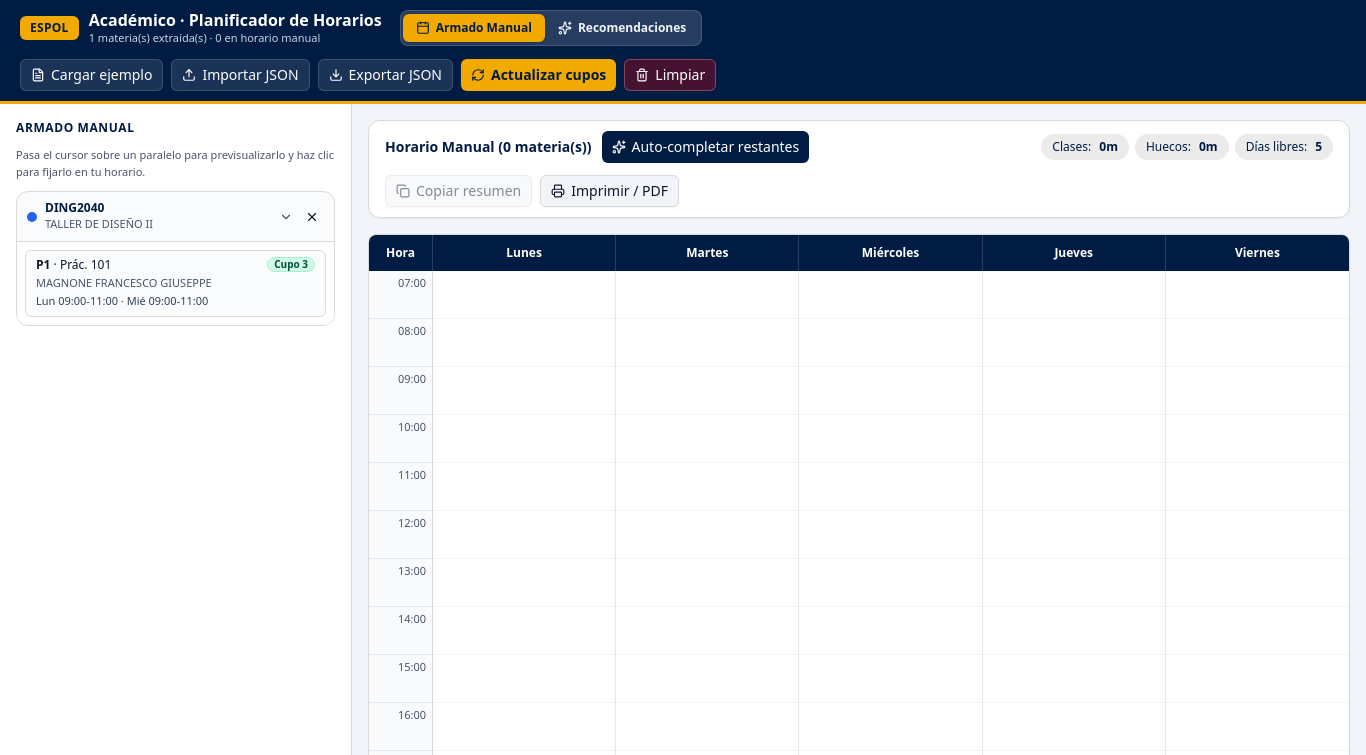
it: Planner App integration › refreshes seats and handles clearing all courses
The image size is (1366, 755).
Expected: the text "DING2040" is shown, [45,200,104,216]
Note: Refresh seats (hits authError path)
Click the button "Actualizar cupos": (539, 74) [461,58,616,90]
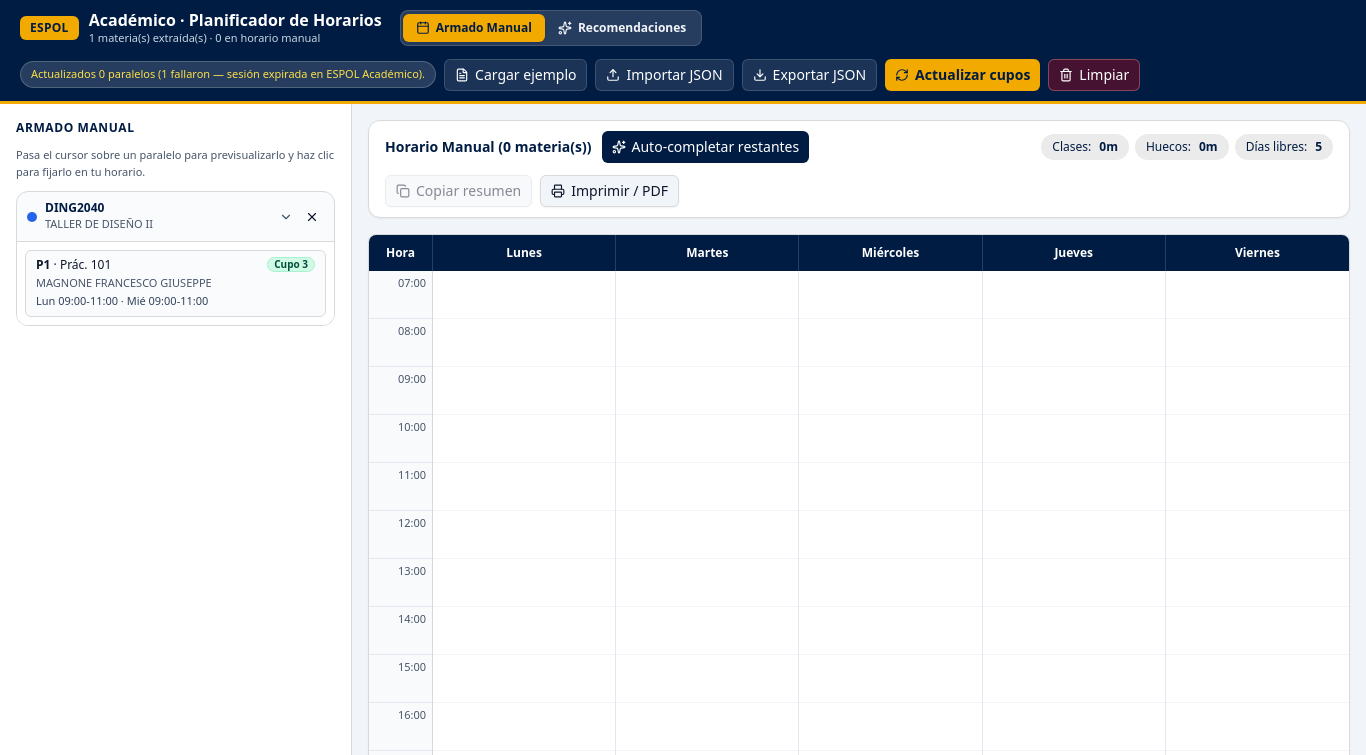
Now the text "sesión expirada en ESPOL Académico" is shown, box [31,66,425,81]
Note: Clear all courses (2-click confirm)
Click the button "Limpiar": (1094, 74) [1048,58,1140,90]
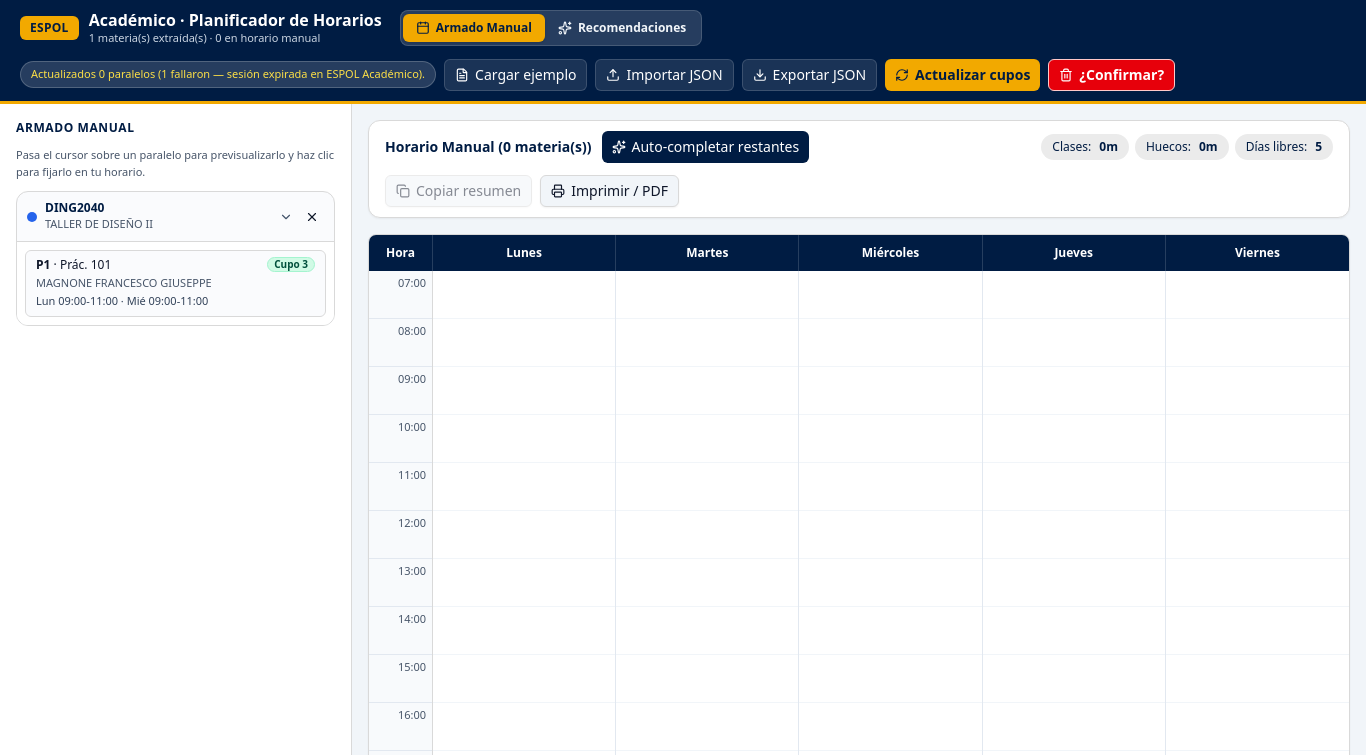
Click the button "¿Confirmar?": (1112, 74) [1048,58,1175,90]
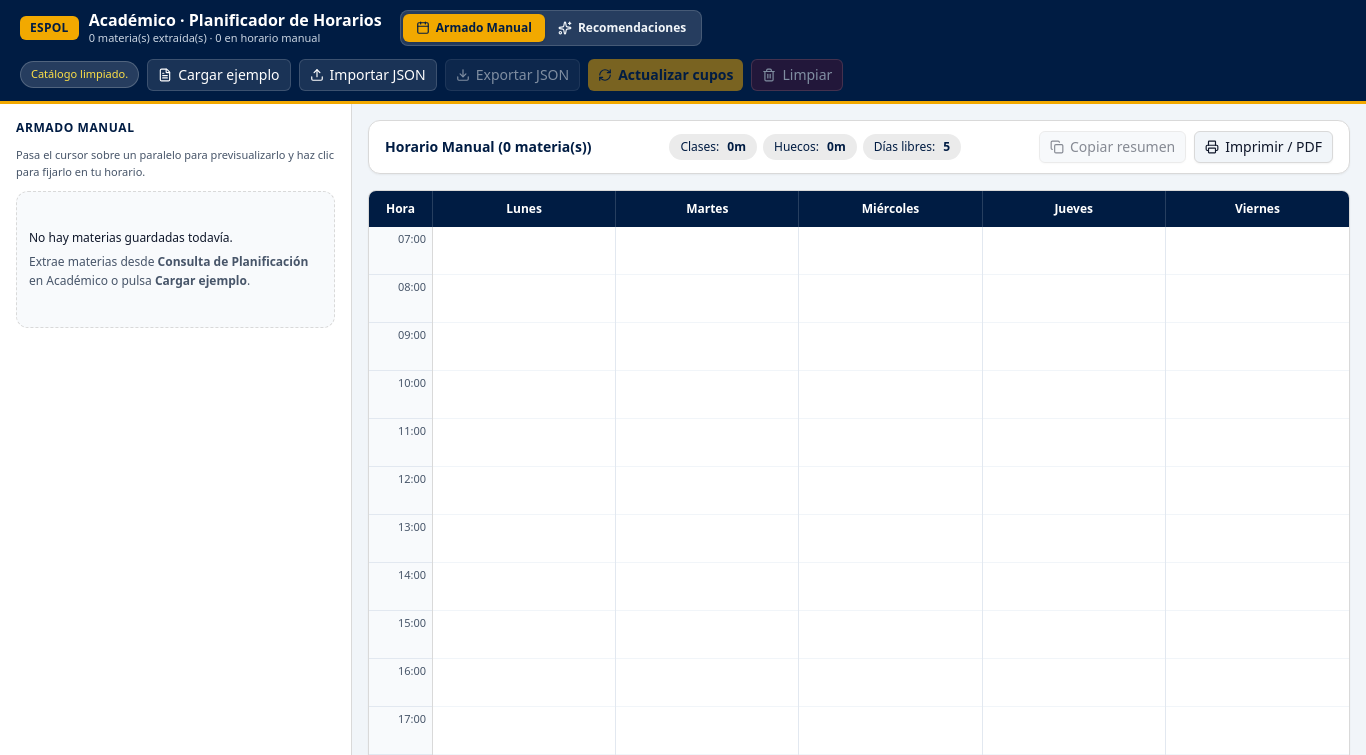
Now the text "Catálogo limpiado." is shown, box [20,61,139,88]
